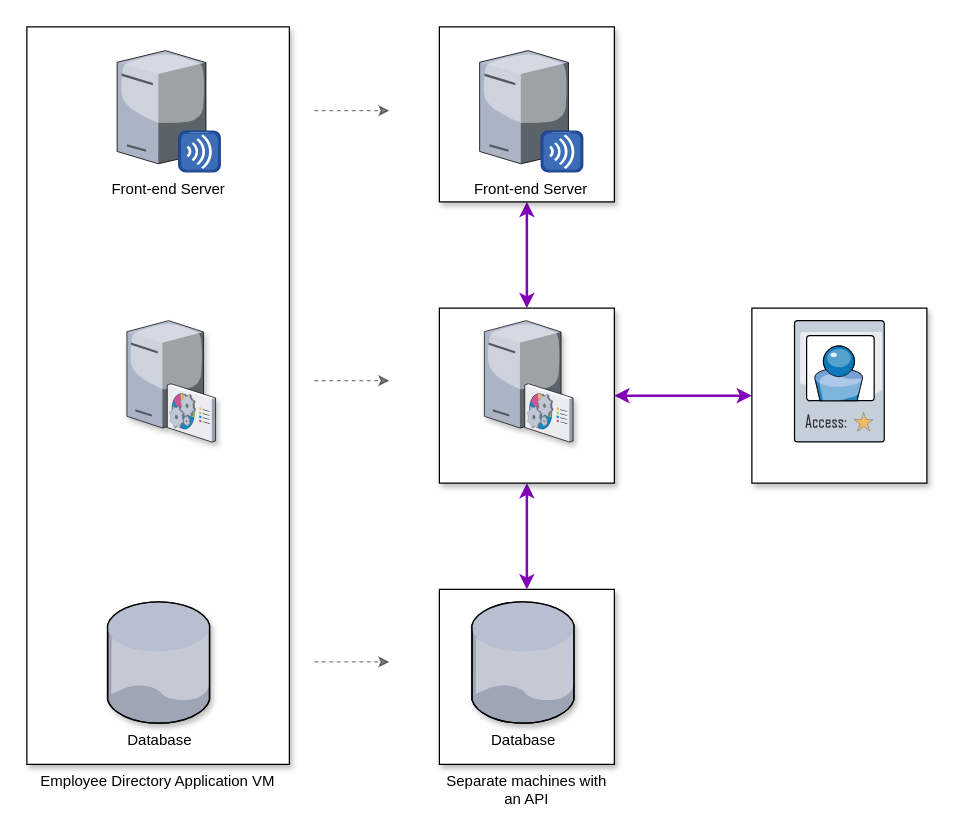
The diagram is 956 pixels wide and 831 high, and some of its shapes have lost their labels. The centre of each missing label's shape, as x and y in pixels:
Back-end Server: [171,382]
Employee API: [529,382]
System Administrator: [839,380]
